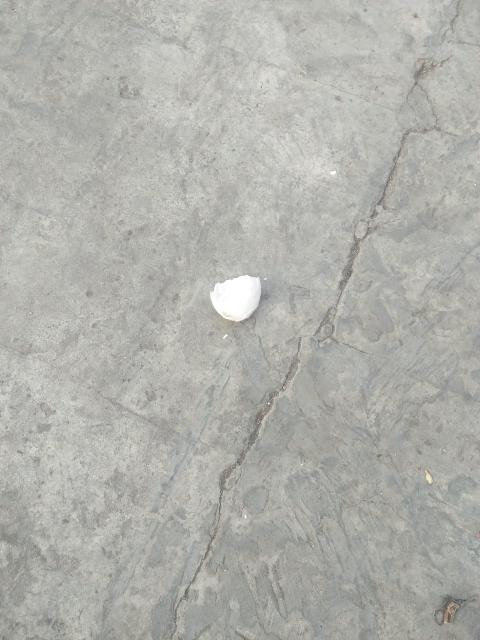Roto: (209, 274, 262, 322)
